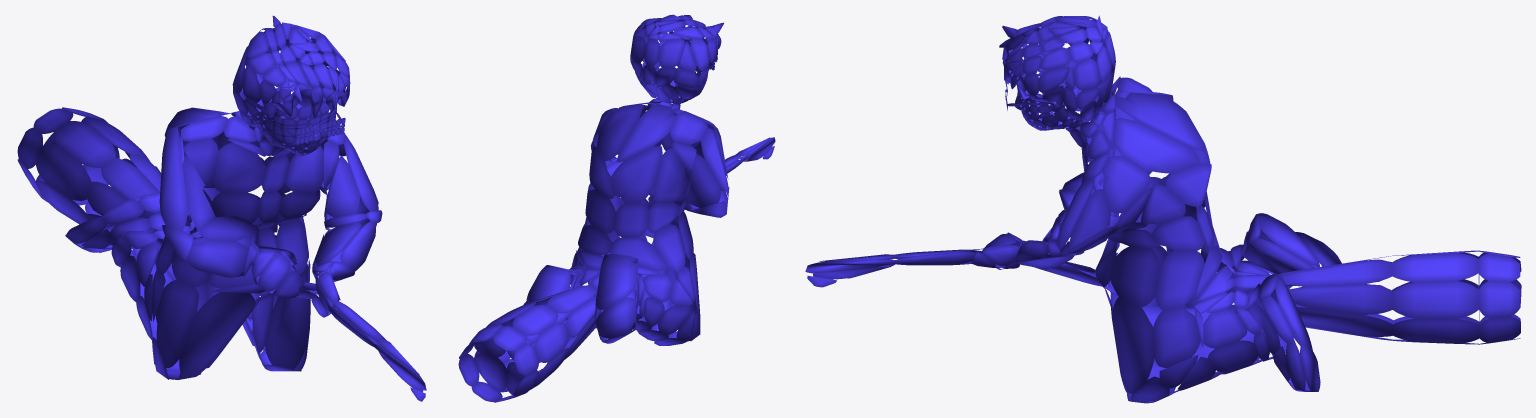
3 views of the same model, side by side, from view 1: azimuth 30°, elevation 25°; view 2: azimuth 150°, elevation 25°; view 3: azimuth 270°, elevation 25° (orthographic). The views are drawn at different scales.
Visible parts, largest first — view 1: T1L9M002_9; view 2: T1L9M002_9; view 3: T1L9M002_9.
Boxes of the visible parts, left/top/right/bottom form: T1L9M002_9: left=17, top=16, right=426, bottom=401; T1L9M002_9: left=458, top=14, right=775, bottom=402; T1L9M002_9: left=805, top=15, right=1521, bottom=403.
Size of the model in its own units: 0.502 by 0.9614 by 1.68.
